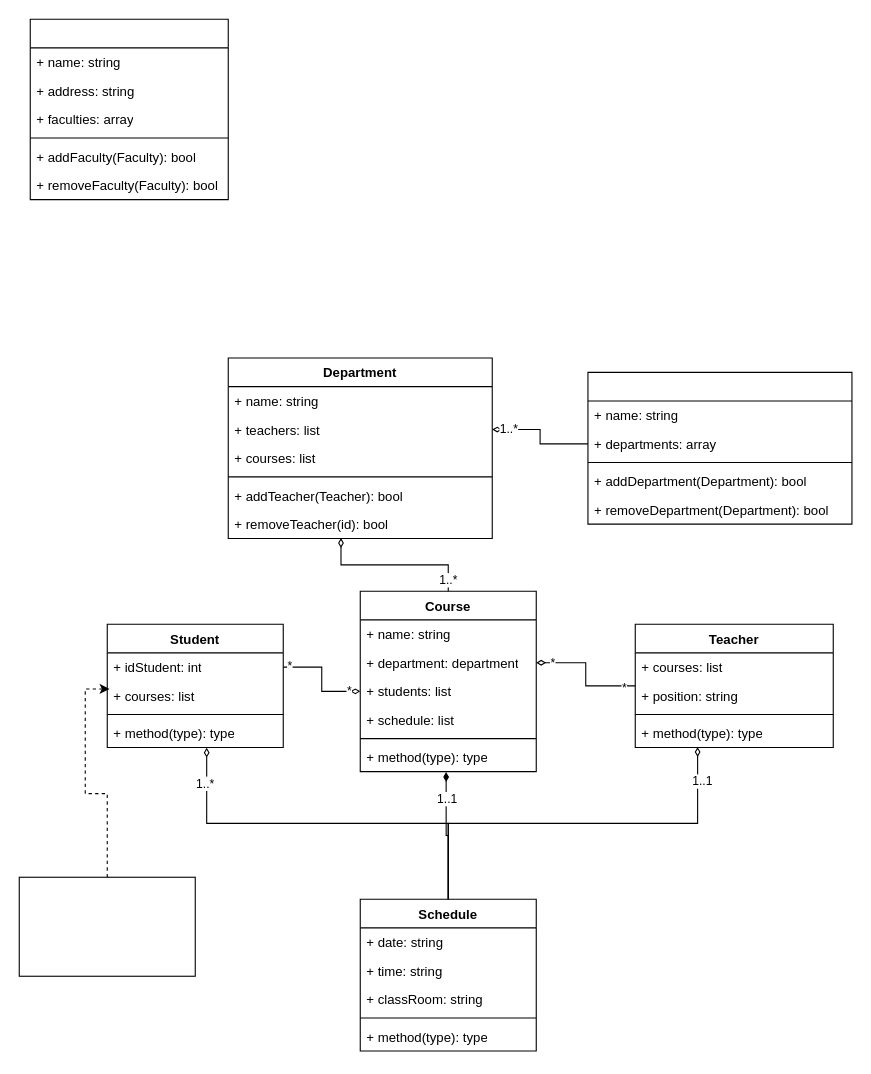
The diagram is 871 pixels wide and 1074 high, and some of its shapes have lost their labels. Each missing label, with the box of its shape:
Faculty: (587, 371, 852, 524)
IStudent field1 = value1 field2 = value2 field3 = value3: (18, 876, 195, 976)
University: (29, 18, 228, 200)
